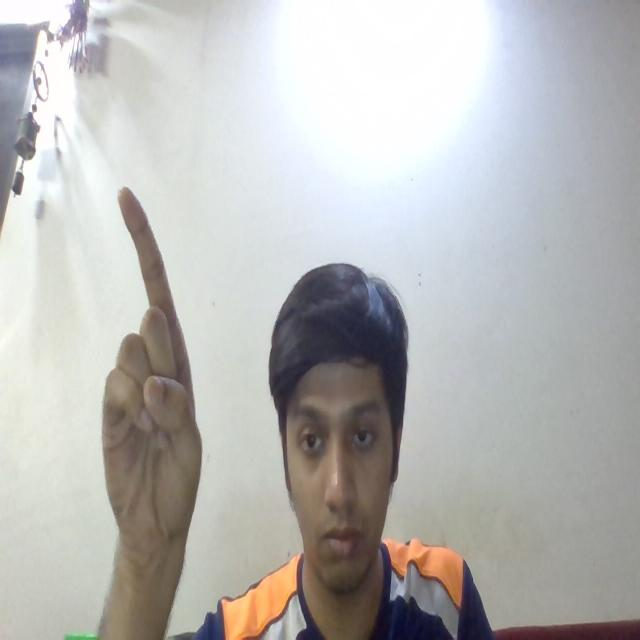Z: (58, 167, 222, 571)
